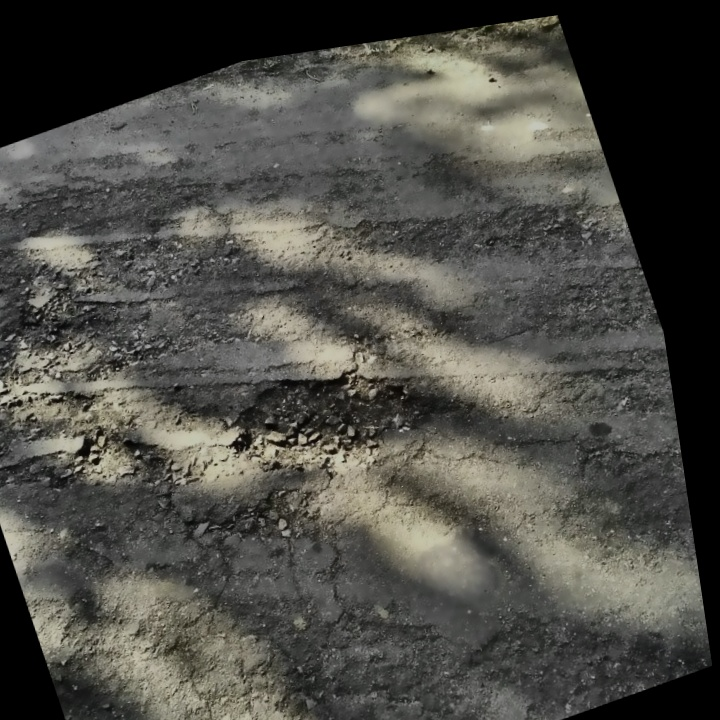pothole: (211, 329, 441, 501)
